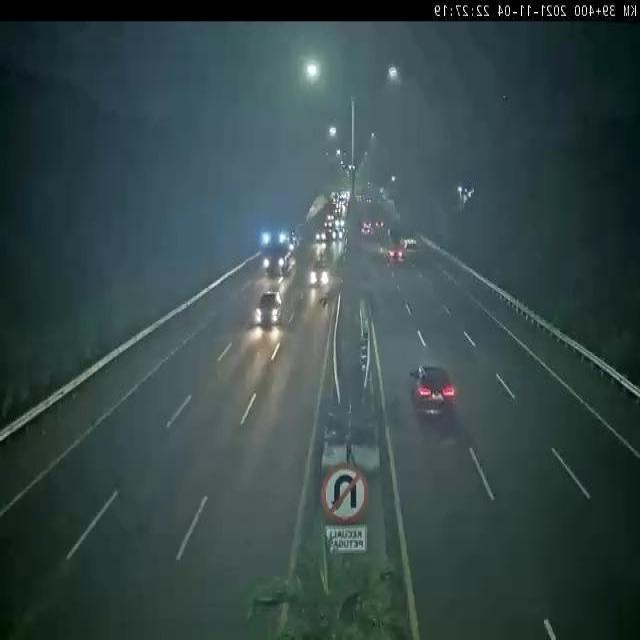Bus: (258, 221, 292, 284)
Car: (411, 358, 462, 425), (247, 290, 286, 330), (305, 254, 330, 294), (386, 242, 409, 267), (360, 216, 376, 237)
